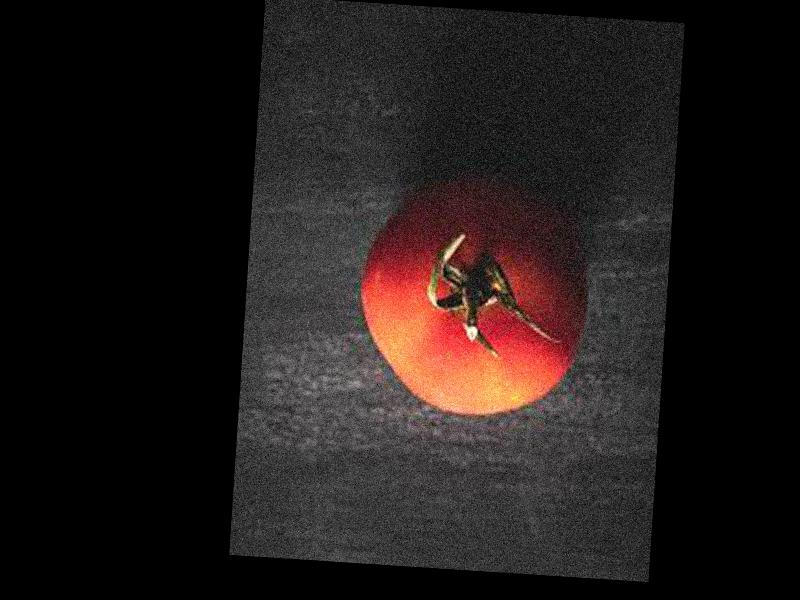Tomato: (353, 174, 591, 422)
